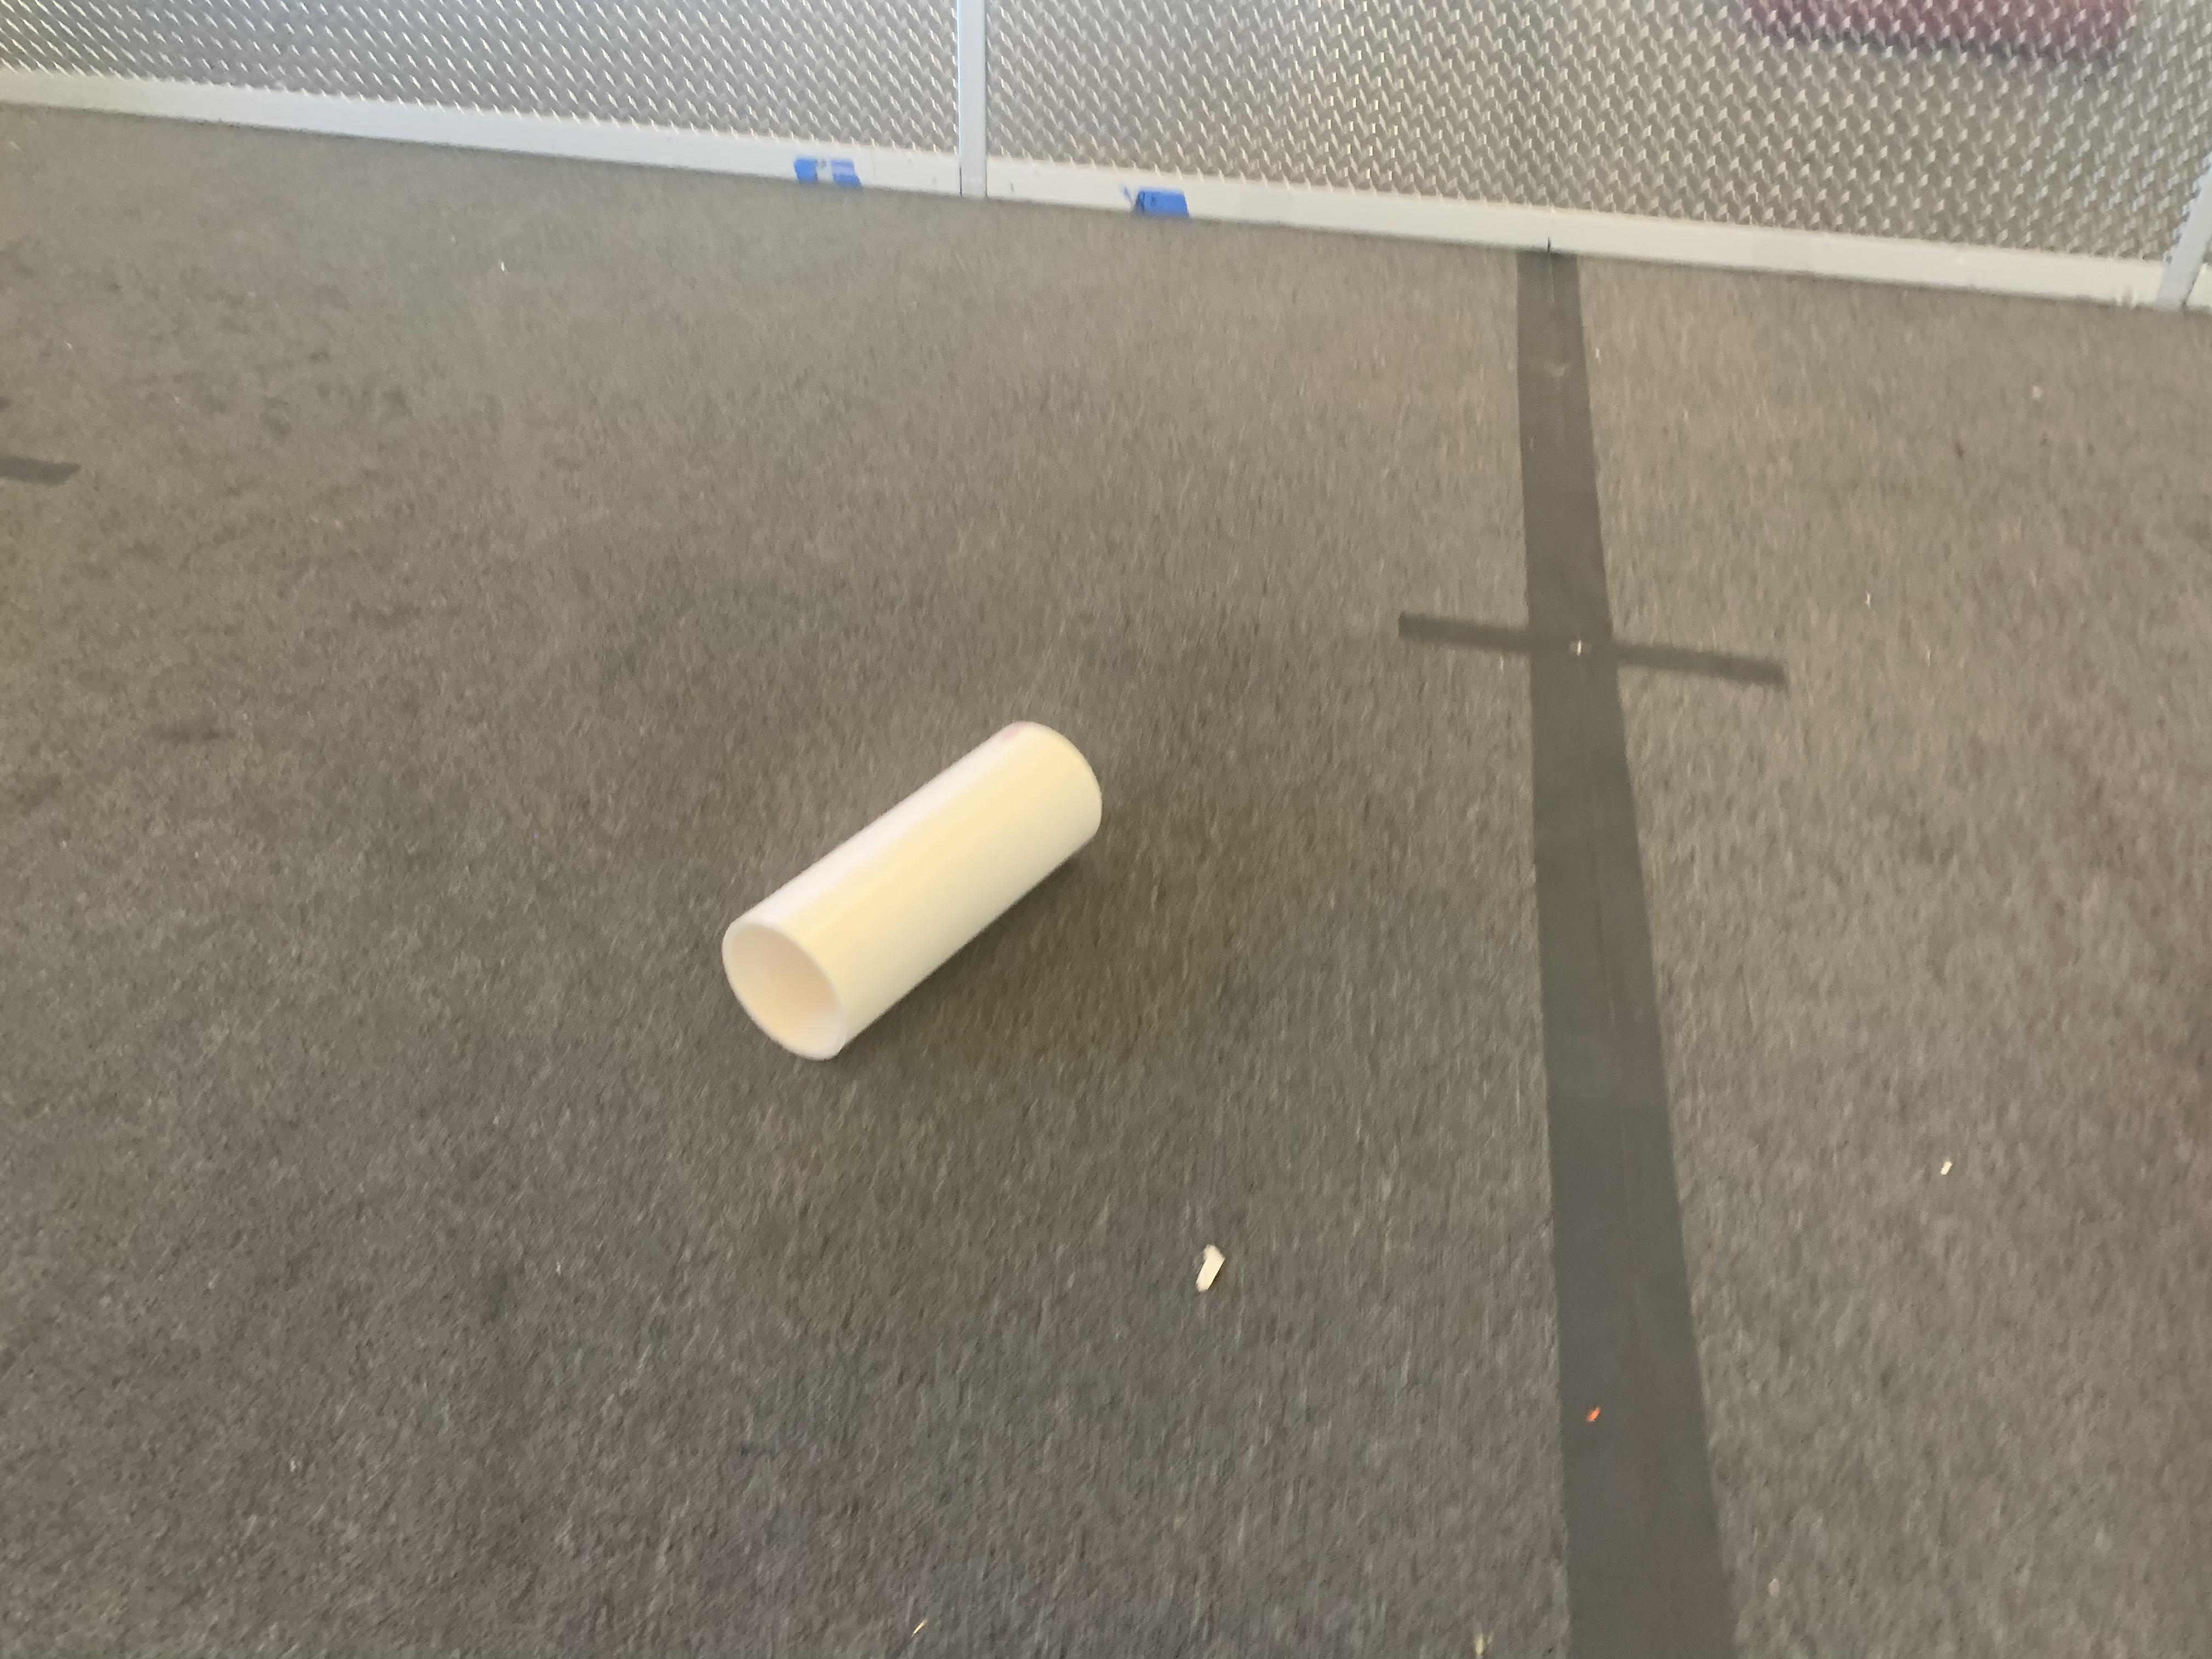coral: (716, 714, 1106, 1063)
